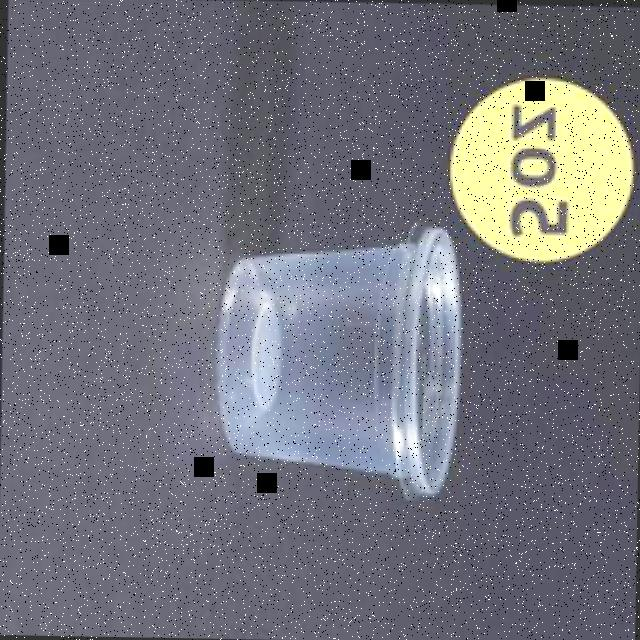plastic_box: (213, 217, 462, 494)
